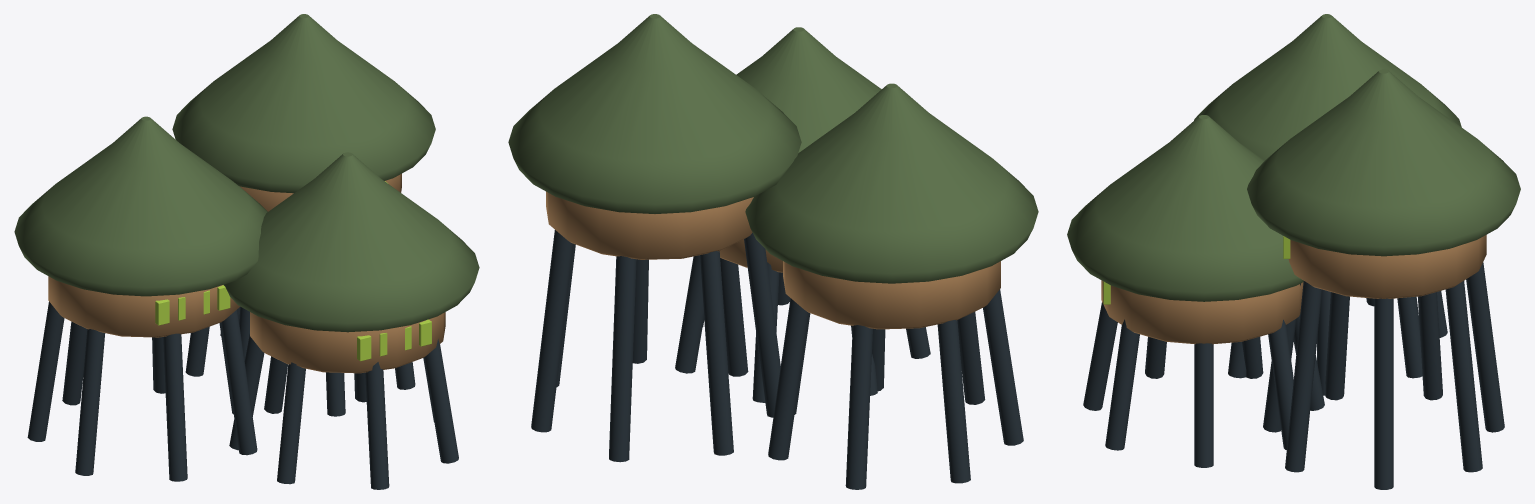
The model's file is xylo_reed_lodge.glb.
The picture shows the model from 3 angles, left to right: view 1: azimuth 30°, elevation 25°; view 2: azimuth 150°, elevation 25°; view 3: azimuth 270°, elevation 25°; orthographic projection. The views are drawn at different scales.
Visible parts, largest first — view 1: xylo_reed_lodge; view 2: xylo_reed_lodge; view 3: xylo_reed_lodge.
Part boxes in pixels (box(x1,y1,x2,y2)): xylo_reed_lodge: box(14, 14, 479, 489); xylo_reed_lodge: box(508, 14, 1038, 489); xylo_reed_lodge: box(1067, 14, 1520, 489).
Bounding box in the file's own units: 17.4 × 14.26 × 15.9.
